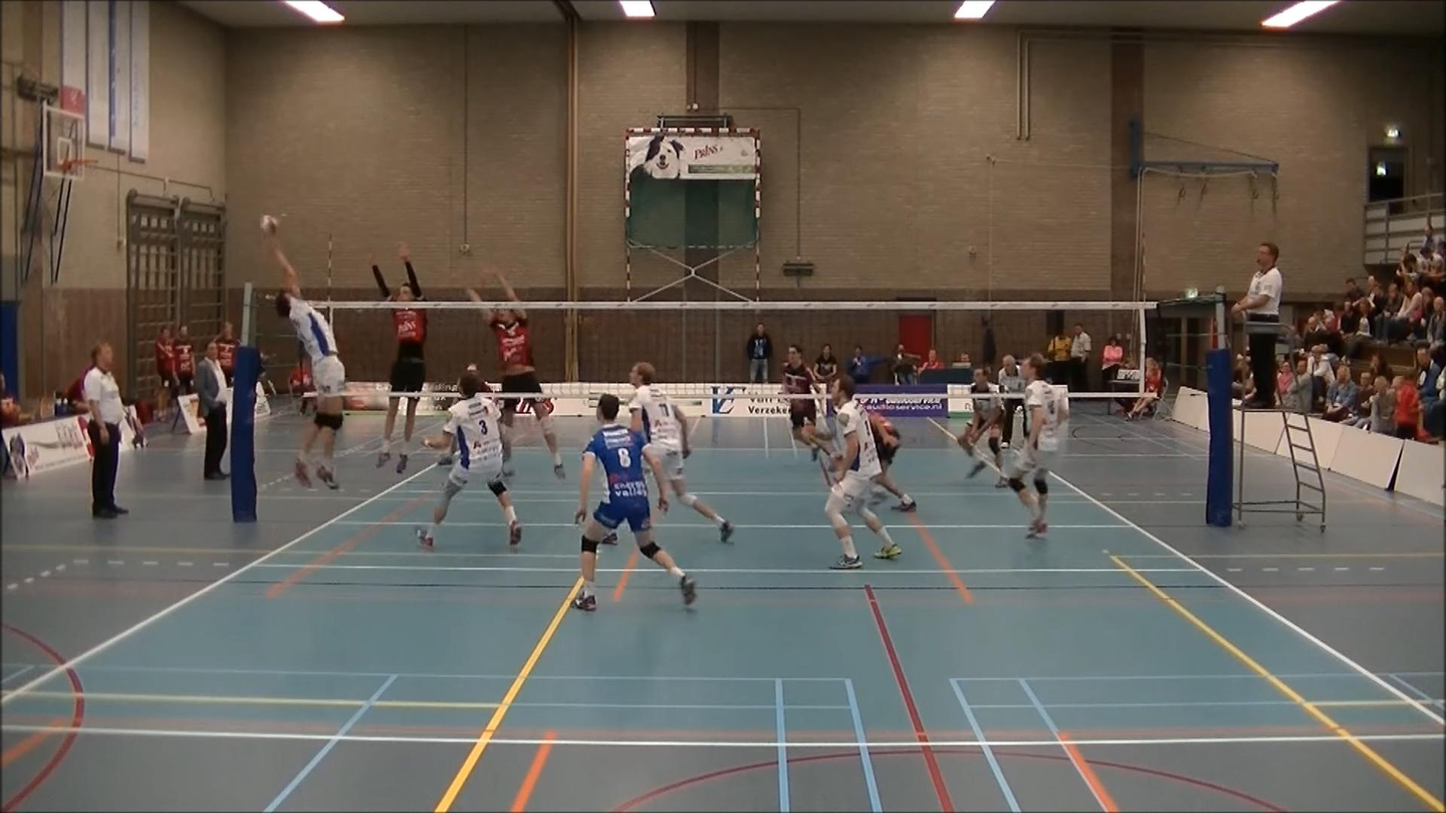Attack: (247, 229, 372, 500)
Block: (466, 250, 571, 489), (365, 228, 434, 483)
Player: (572, 394, 695, 611), (629, 362, 734, 541), (416, 373, 521, 550), (825, 376, 901, 569), (1007, 353, 1068, 537), (956, 368, 1005, 487), (861, 410, 917, 512), (789, 397, 829, 460), (465, 363, 492, 392)
ball: (259, 211, 285, 242)
